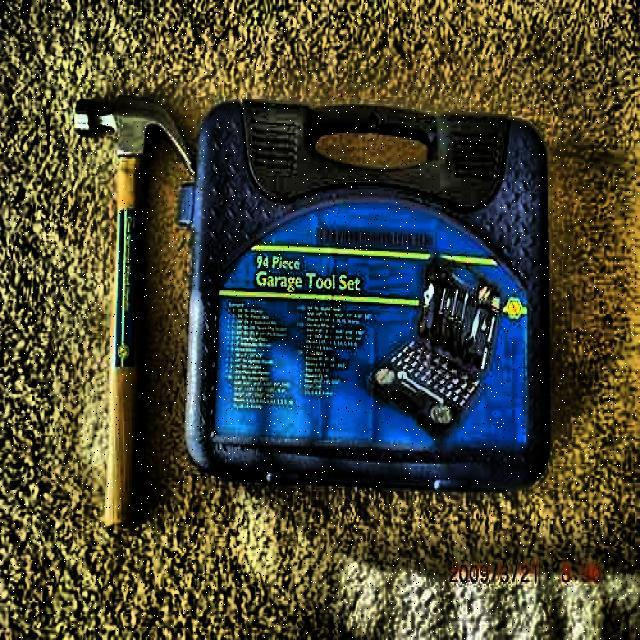hammer: (77, 96, 189, 532)
